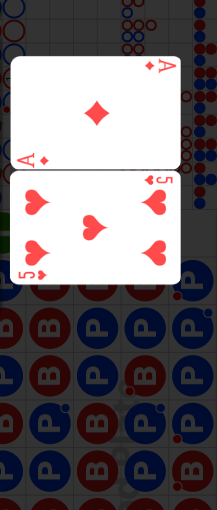5H: (17, 269, 49, 281)
AD: (16, 151, 51, 167)
